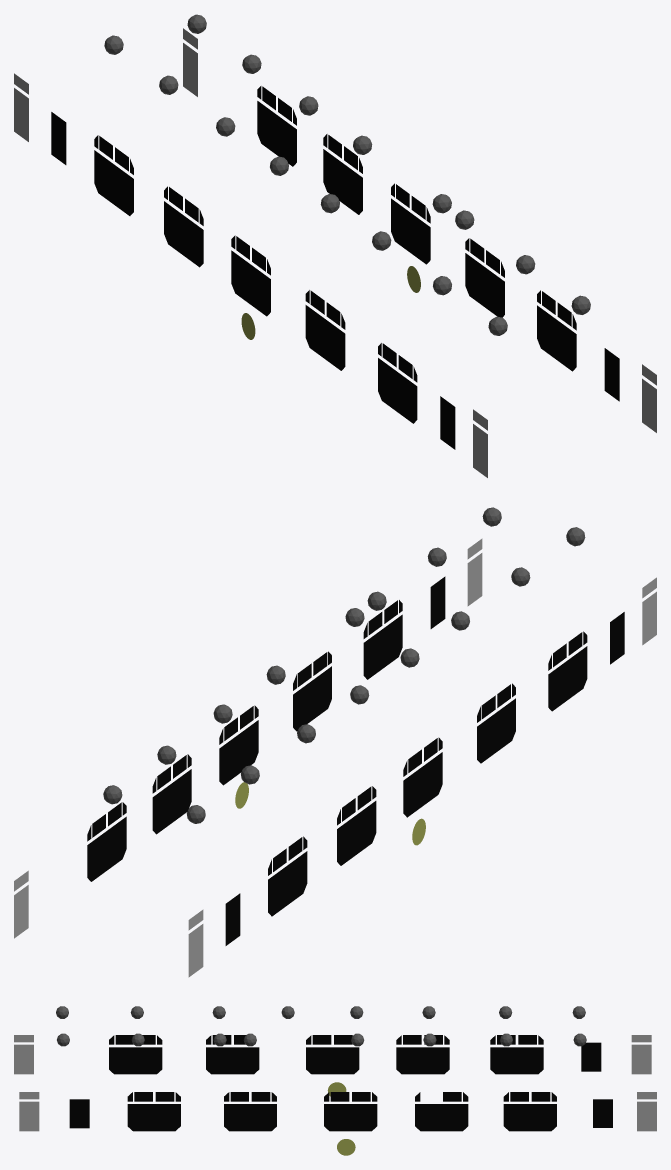
Rendered from lms-period3-open-first-windows.dae.
The picture shows the model from 3 angles, top to bottom: view 1: azimuth 30°, elevation 25°; view 2: azimuth 150°, elevation 25°; view 3: azimuth 270°, elevation 25°; orthographic projection. The views are drawn at different scales.
Parts seen in each view (by area): view 1: Plane_236, Plane_235, Plane_245, Plane_251, Plane_250, Plane_238, Plane_242, Plane_237, Plane_252, Plane_253, Plane_239, Plane_243 (+5 smaller); view 2: Plane_253, Plane_252, Plane_235, Plane_237, Plane_238, Plane_245, Plane_242, Plane_251, Plane_250, Plane_236, Plane_244, Plane_243 (+4 smaller); view 3: Plane_245, Plane_251, Plane_253, Plane_250, Plane_237, Plane_235, Plane_238, Plane_242, Plane_252, Plane_236, Plane_243, Plane_244 (+6 smaller).
Boxes of the visible parts, x1,y1,x2,y2 form: Plane_236: (305,290,345,370); Plane_235: (378,343,417,423); Plane_245: (537,290,576,371); Plane_251: (391,183,430,264); Plane_250: (465,238,504,317); Plane_238: (94,135,133,215); Plane_242: (164,186,203,267); Plane_237: (231,235,270,316); Plane_252: (323,134,362,214); Plane_253: (257,86,296,166); Plane_239: (473,409,487,477); Plane_243: (14,73,28,141); Plane_253: (87,802,126,881); Plane_252: (152,754,191,834); Plane_235: (548,631,587,711); Plane_237: (403,737,442,817); Plane_238: (268,836,307,916); Plane_245: (363,600,402,679); Plane_242: (337,786,376,865); Plane_251: (219,705,258,785); Plane_250: (293,651,331,731); Plane_236: (477,683,515,763); Plane_244: (467,538,482,606); Plane_243: (188,909,203,977); Plane_245: (127,1092,180,1131); Plane_251: (324,1092,377,1131); Plane_253: (503,1092,556,1131); Plane_250: (224,1092,276,1131); Plane_237: (306,1035,359,1074); Plane_235: (109,1035,162,1074); Plane_238: (490,1035,543,1074); Plane_242: (396,1035,449,1074); Plane_252: (415,1092,468,1131); Plane_236: (206,1035,259,1074); Plane_243: (631,1035,651,1074); Plane_244: (19,1092,39,1131).
Size of the model in its own units: 2.02 by 9.65 by 1.78.
